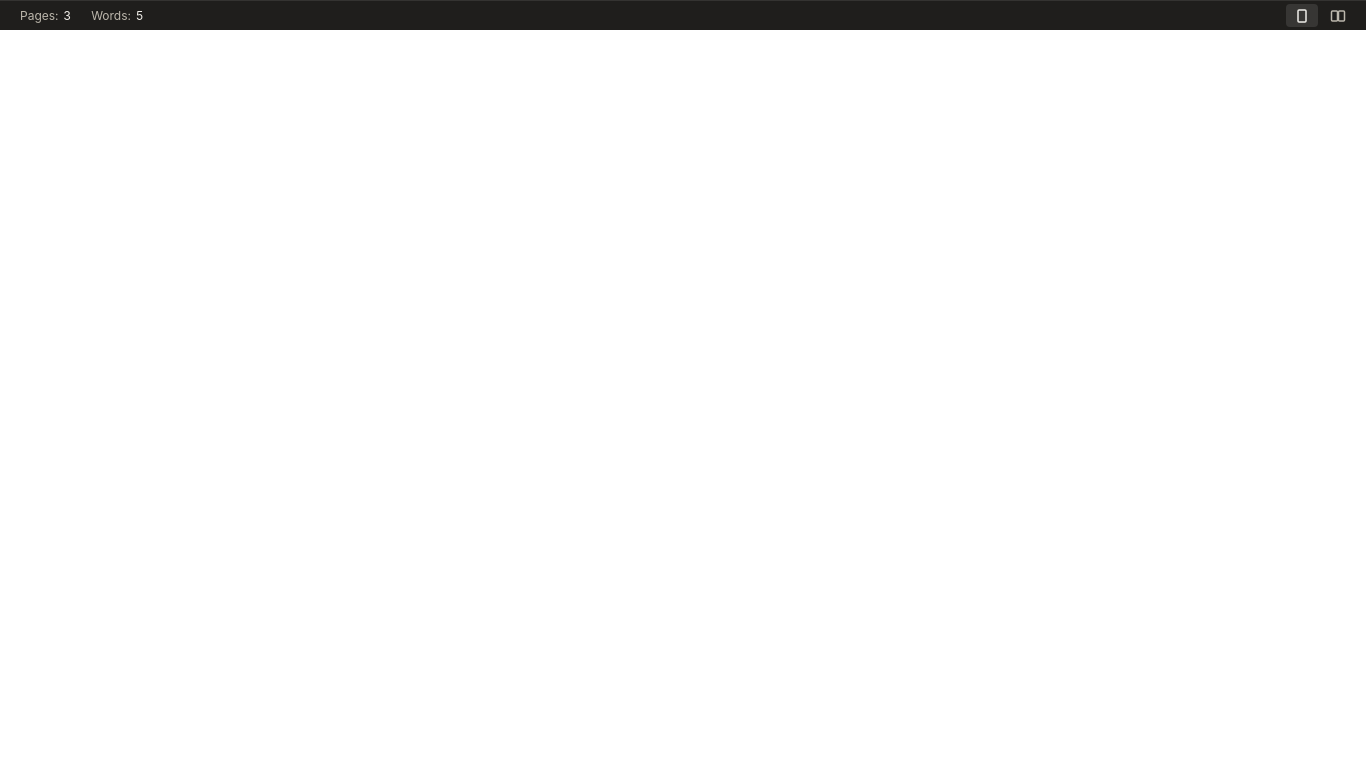
Test: shows the pages and words of the active document and opens Statistics from either
Check: the button "Words: 5" is shown, box [83,3,152,28]
Click the button "Pages: 3" at [46, 16], box [12,3,79,28]
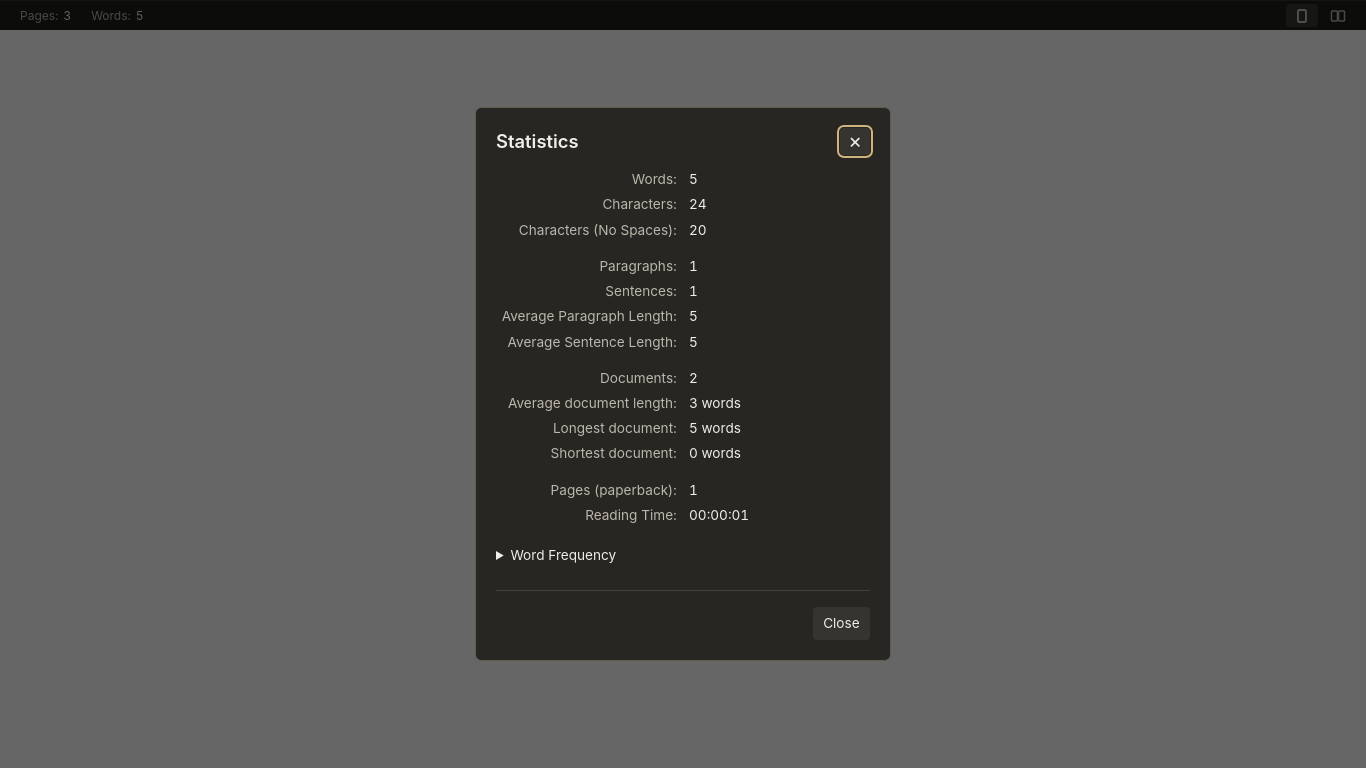
Check: the heading with id "statistics-title" reads "Statistics", box [496,130,579,152]
Click the button named "Close Statistics" at [855, 142], box [840,128,870,155]
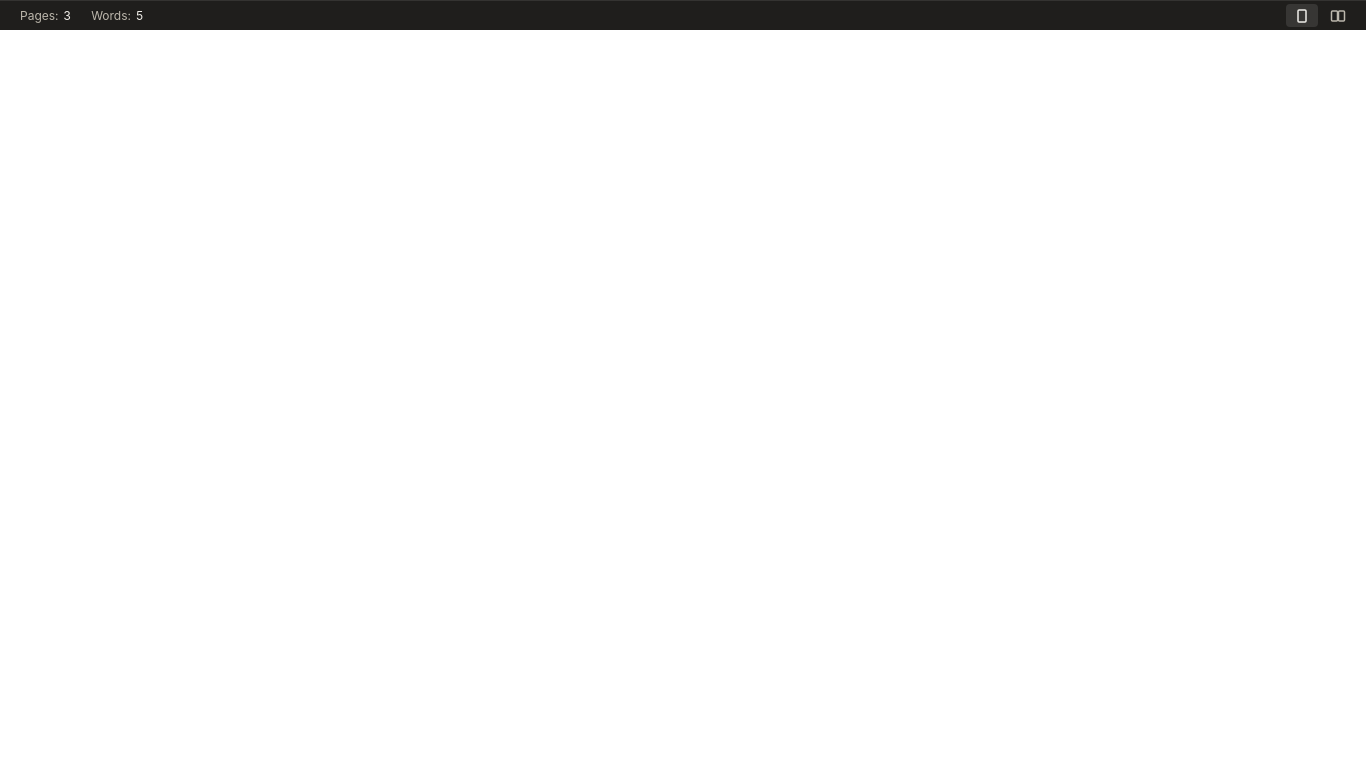
Check: the heading with id "statistics-title" is gone
Click the button "Words: 5" at [117, 16], box [83,3,152,28]
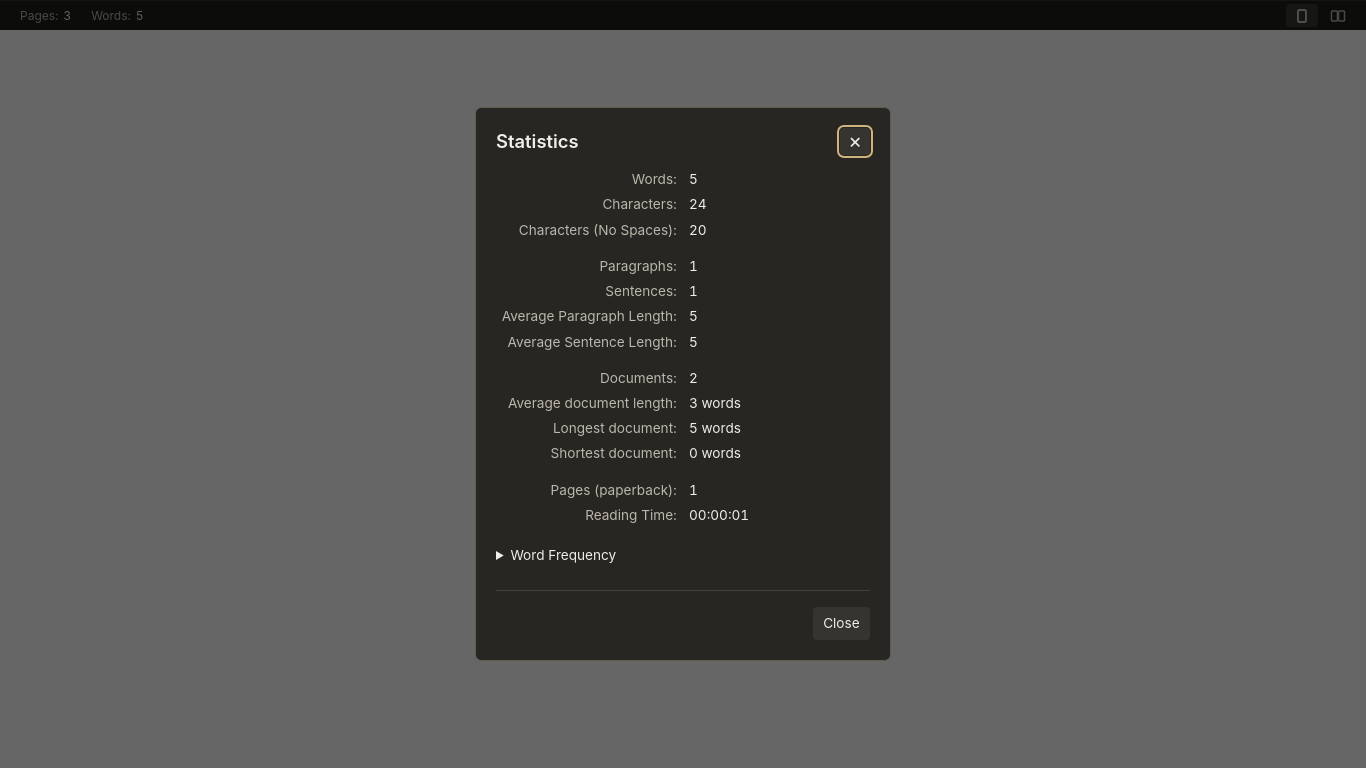
Check: the heading "Statistics" is shown, box [496,128,579,156]
